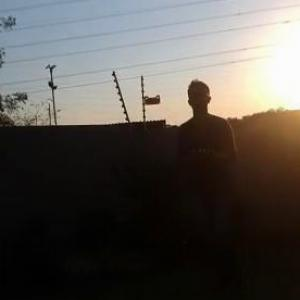follow: (175, 68, 246, 294)
